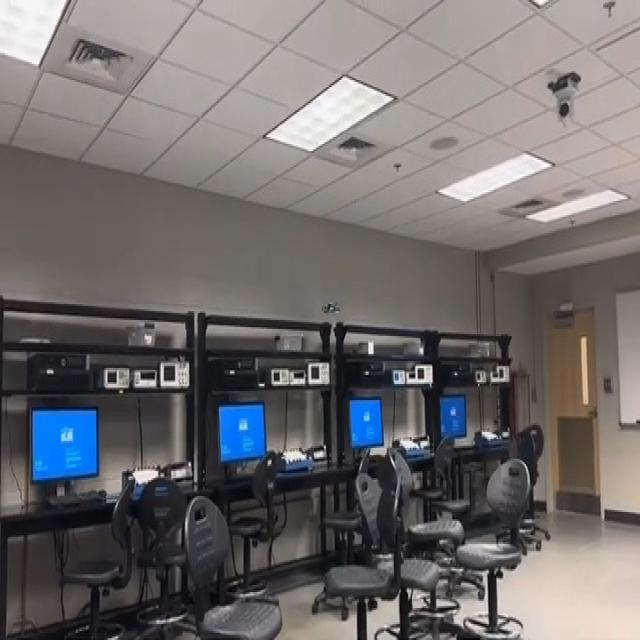drone: (312, 281, 344, 324)
